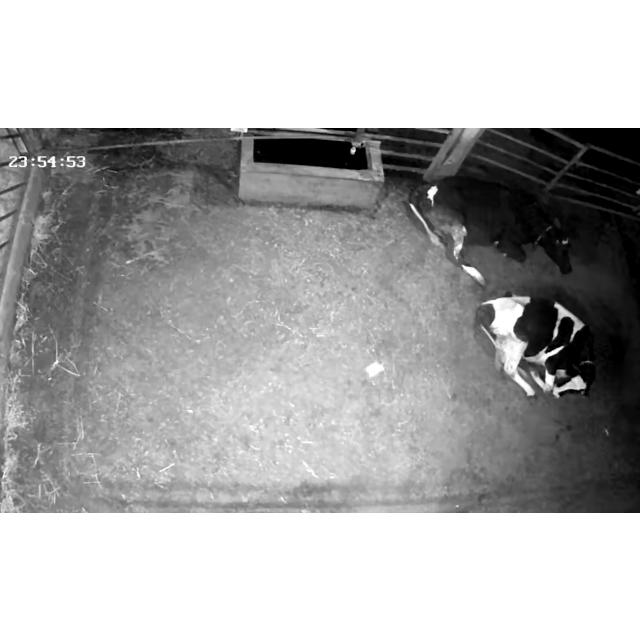lay: (410, 172, 580, 286), (474, 286, 602, 408)
